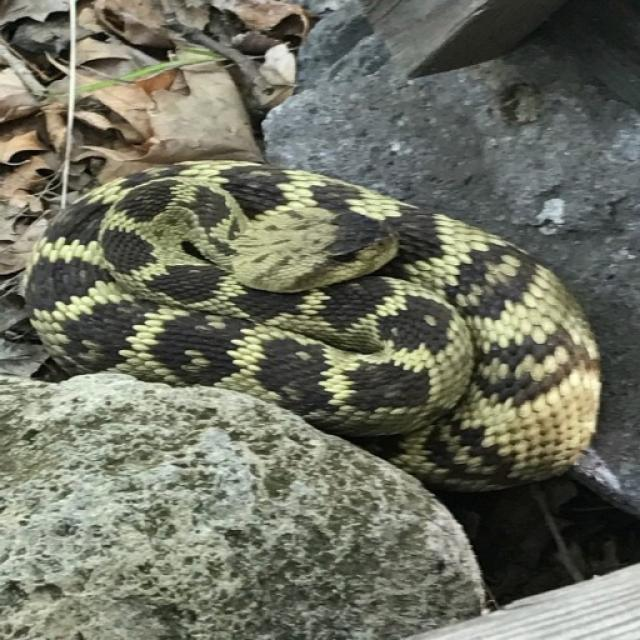snake: (27, 143, 608, 519)
